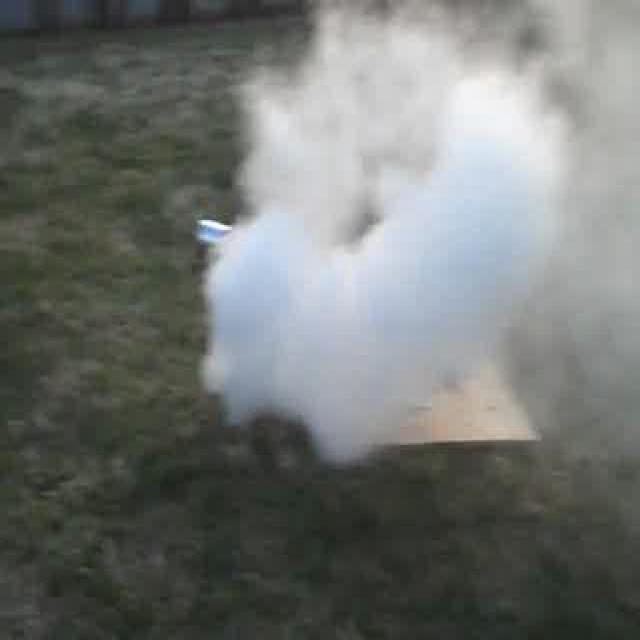Smoke: (223, 60, 551, 430)
